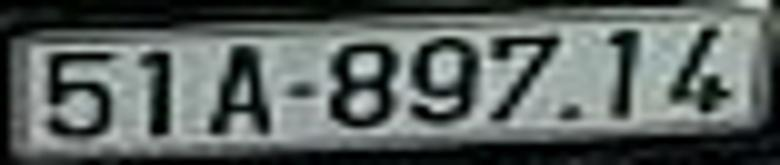-: (281, 80, 324, 106)
.: (555, 93, 591, 130)
1: (136, 45, 173, 142), (608, 29, 642, 122)
4: (668, 25, 737, 114)
5: (45, 48, 116, 142)
7: (488, 29, 558, 126)
8: (330, 42, 398, 130)
9: (410, 32, 477, 126)
A: (211, 44, 280, 140)
